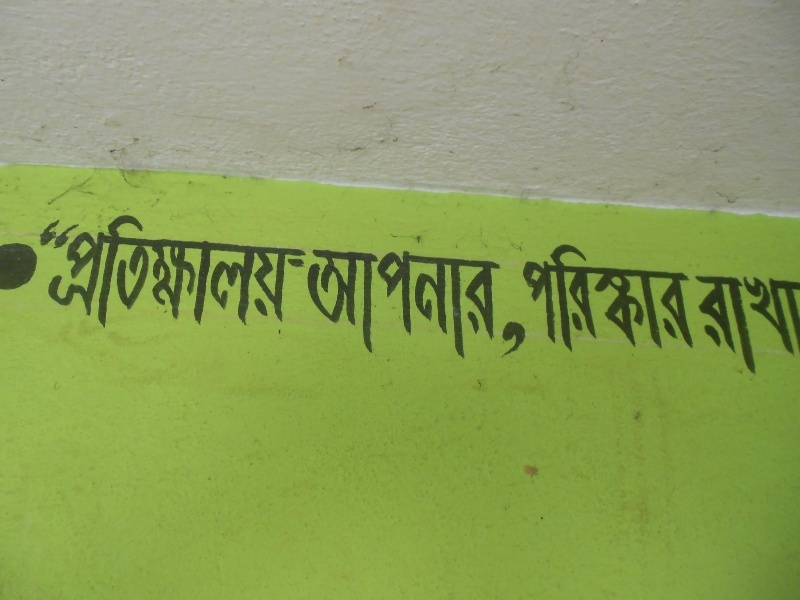text: (81, 212, 96, 336), (97, 212, 112, 336), (113, 212, 128, 336), (129, 212, 144, 336), (145, 212, 160, 336), (161, 212, 176, 336), (177, 212, 192, 336), (193, 212, 208, 336), (209, 212, 224, 336), (225, 212, 240, 336), (241, 212, 256, 336), (257, 212, 272, 336), (273, 212, 288, 336), (289, 212, 304, 336), (321, 244, 336, 361), (337, 244, 352, 361), (353, 244, 368, 361), (369, 244, 384, 361), (385, 244, 400, 361), (401, 244, 416, 361), (417, 244, 432, 361), (433, 244, 448, 361), (449, 244, 464, 361), (465, 244, 480, 361), (481, 244, 496, 361), (497, 244, 512, 361), (513, 244, 528, 361), (529, 242, 544, 354), (545, 242, 560, 354), (561, 242, 576, 354), (577, 242, 592, 354), (593, 242, 608, 354), (609, 242, 624, 354), (625, 242, 640, 354), (641, 242, 656, 354), (657, 242, 672, 354), (673, 242, 688, 354), (705, 276, 720, 378), (721, 276, 736, 378), (737, 276, 752, 378), (753, 276, 768, 378), (769, 276, 784, 378), (785, 276, 800, 378), (305, 212, 316, 336), (689, 242, 700, 354), (693, 276, 704, 378), (311, 244, 320, 361), (520, 242, 528, 354), (17, 240, 32, 299), (2, 240, 16, 299), (33, 216, 48, 260), (49, 216, 64, 260), (65, 216, 80, 260), (33, 240, 40, 299), (27, 216, 32, 260)
